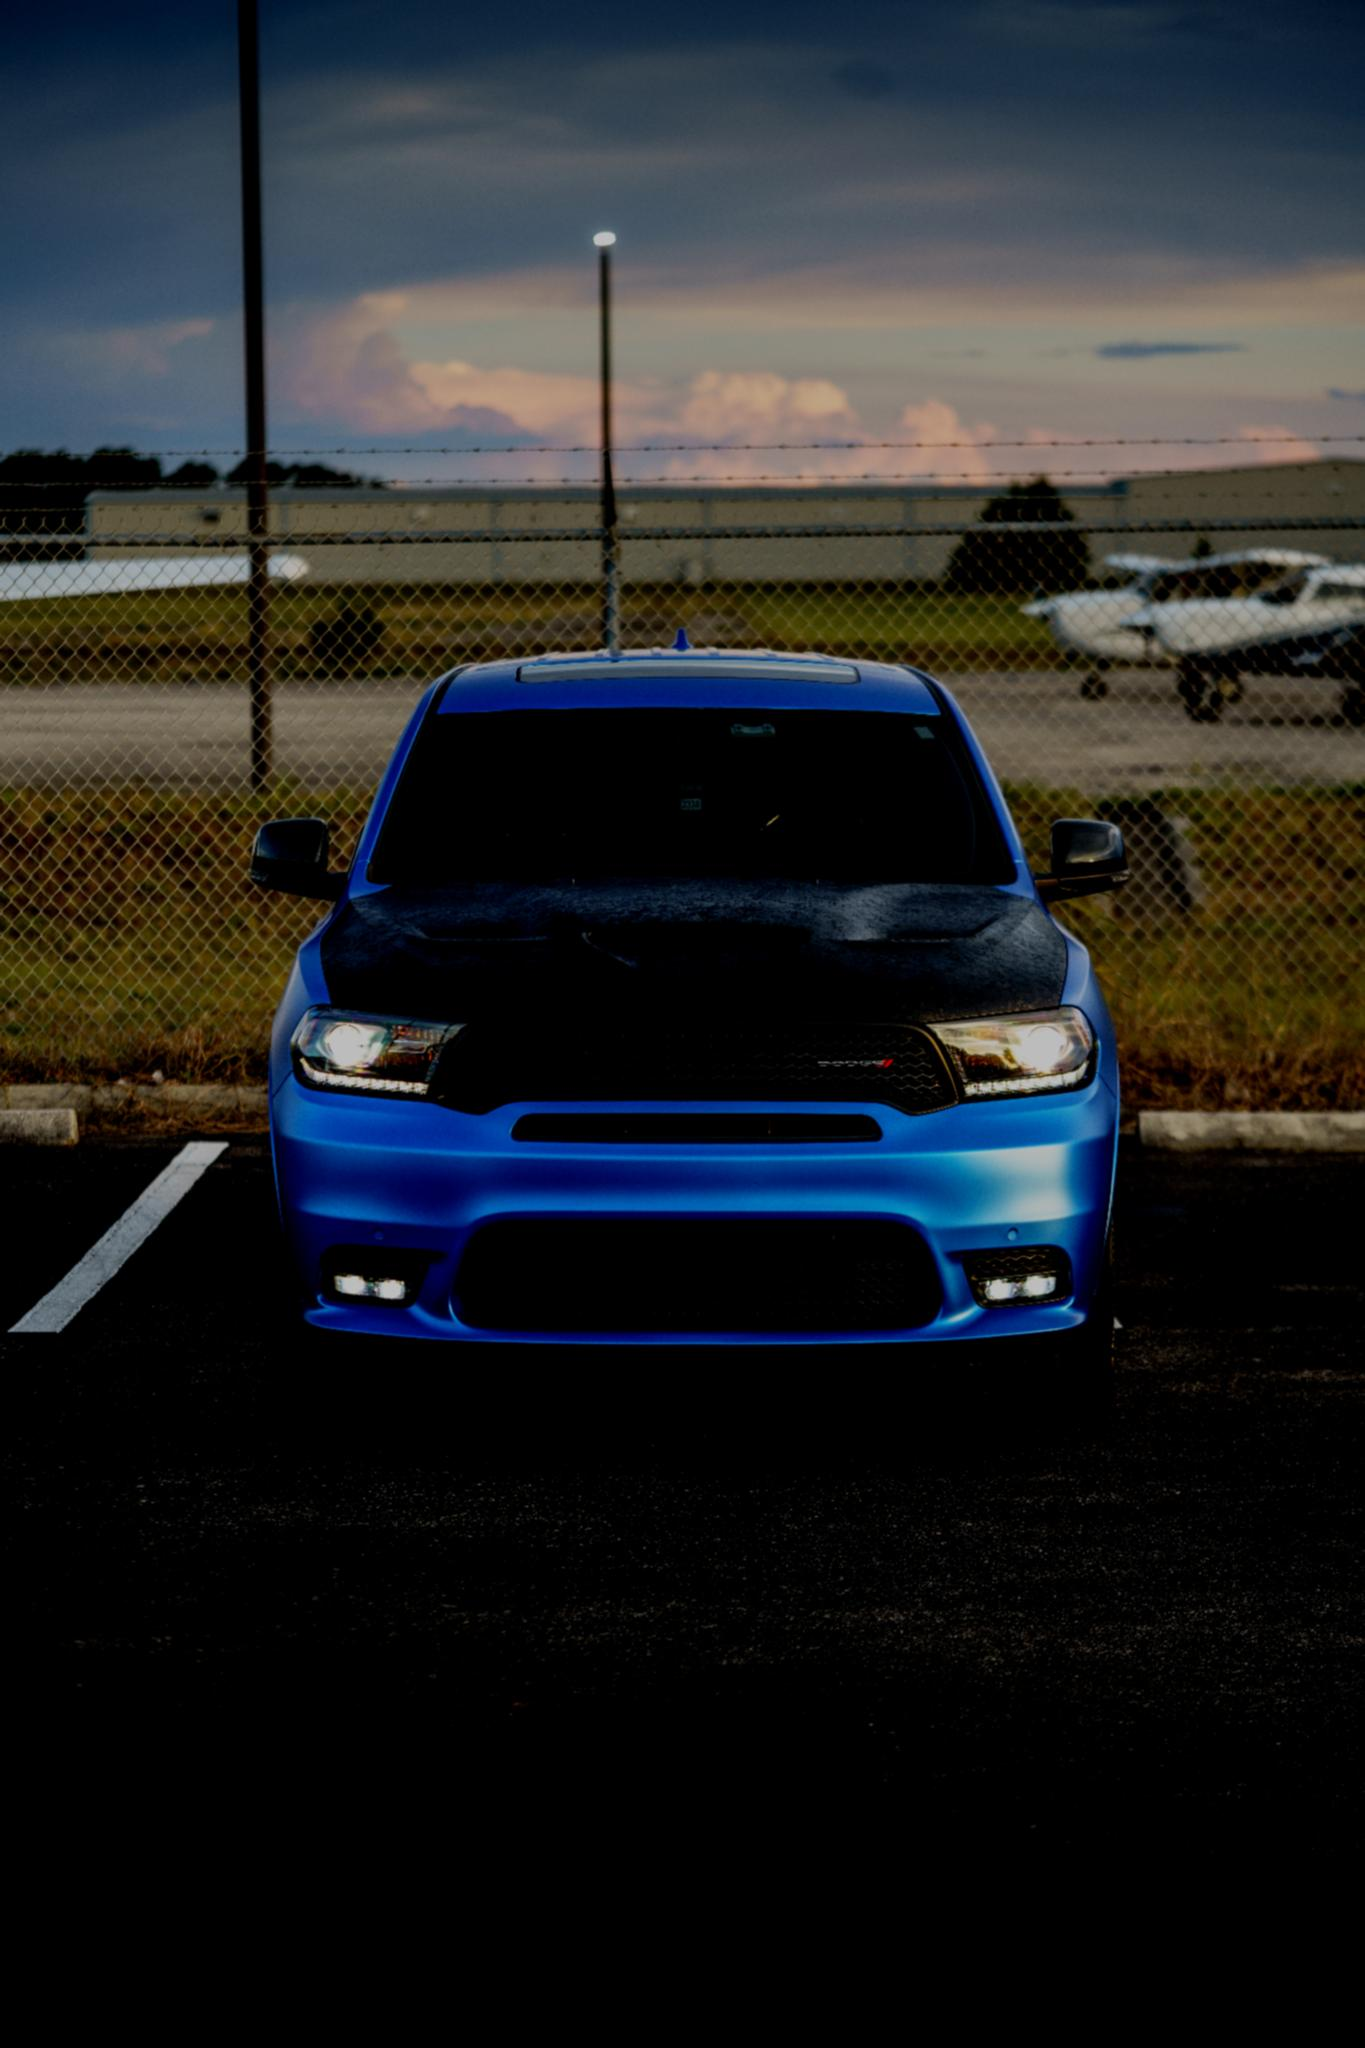dodge: (804, 1043, 909, 1084)
